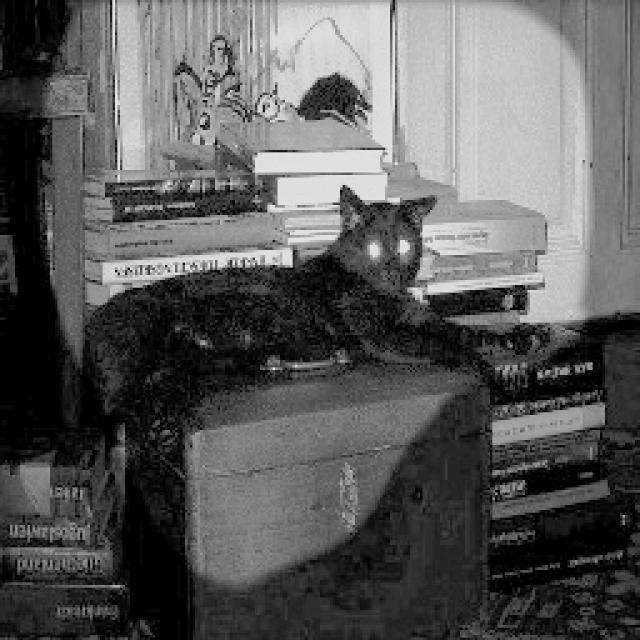cat: (58, 182, 556, 432)
